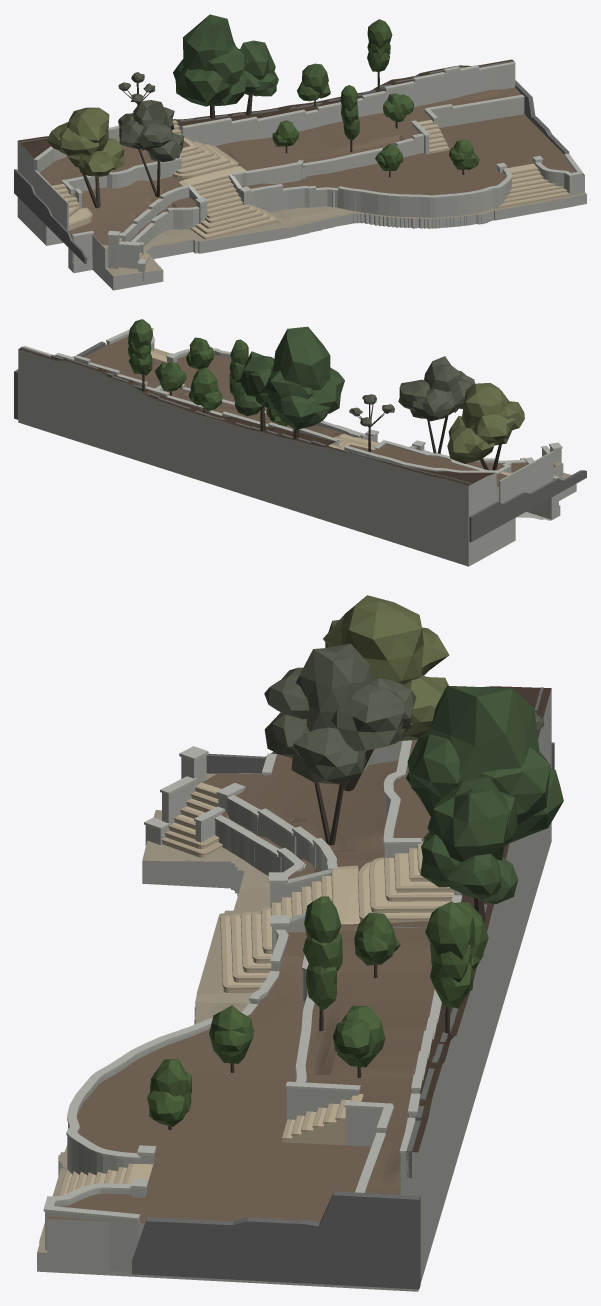
The model's file is reconstruction-ec6bc09f15f7.glb.
3 renders of one model, top to bottom at view 1: azimuth 30°, elevation 25°; view 2: azimuth 150°, elevation 25°; view 3: azimuth 270°, elevation 25°, orthographic. The views are drawn at different scales.
Parts seen in each view (by area): view 1: ground-terraces, wall-wa, wall-we, planting-tree-03, wall-wb, planting-tree-02, planting-tree-01, flight-m1, planting-tree-04, nosing-m1, coping-wa, coping-wb (+24 smaller); view 2: ground-terraces, planting-tree-03, planting-tree-02, planting-tree-01, slot-filler-west, planting-tree-04, cheek-w2-west, planting-tree-12, coping-we, planting-tree-11, gutter-rear, planting-tree-07 (+7 smaller); view 3: ground-terraces, slot-filler-east, planting-tree-01, planting-tree-03, planting-tree-04, planting-tree-02, coping-wa, wall-wa, planting-tree-12, flight-m2, planting-tree-07, flight-m1 (+20 smaller).
Boxes of the visible parts, x1=… form: ground-terraces: x1=17, y1=59, x2=586, y2=290; wall-wa: x1=72, y1=156, x2=582, y2=262; wall-we: x1=183, y1=64, x2=515, y2=145; planting-tree-03: x1=173, y1=14, x2=247, y2=118; wall-wb: x1=126, y1=97, x2=524, y2=241; planting-tree-02: x1=47, y1=107, x2=124, y2=208; planting-tree-01: x1=118, y1=100, x2=183, y2=197; flight-m1: x1=180, y1=170, x2=276, y2=239; planting-tree-04: x1=239, y1=40, x2=278, y2=115; nosing-m1: x1=190, y1=175, x2=277, y2=238; coping-wa: x1=72, y1=153, x2=583, y2=241; coping-wb: x1=123, y1=94, x2=524, y2=235; ground-terraces: x1=18, y1=336, x2=576, y2=566; planting-tree-03: x1=264, y1=326, x2=344, y2=439; planting-tree-02: x1=447, y1=383, x2=524, y2=470; planting-tree-01: x1=398, y1=356, x2=474, y2=453; slot-filler-west: x1=469, y1=470, x2=586, y2=542; planting-tree-04: x1=233, y1=351, x2=274, y2=431; cheek-w2-west: x1=499, y1=451, x2=553, y2=503; planting-tree-12: x1=128, y1=319, x2=152, y2=391; coping-we: x1=23, y1=346, x2=338, y2=441; planting-tree-11: x1=189, y1=367, x2=222, y2=413; gutter-rear: x1=20, y1=346, x2=471, y2=494; planting-tree-07: x1=229, y1=339, x2=248, y2=395; ground-terraces: x1=37, y1=686, x2=551, y2=1291; slot-filler-east: x1=132, y1=1191, x2=420, y2=1289; planting-tree-01: x1=264, y1=643, x2=416, y2=845; planting-tree-03: x1=406, y1=685, x2=563, y2=845; planting-tree-04: x1=420, y1=776, x2=518, y2=922; planting-tree-02: x1=323, y1=595, x2=449, y2=791; coping-wa: x1=43, y1=753, x2=305, y2=1220; wall-wa: x1=45, y1=774, x2=303, y2=1272; planting-tree-12: x1=425, y1=901, x2=474, y2=1037; flight-m2: x1=339, y1=841, x2=453, y2=924; planting-tree-07: x1=303, y1=896, x2=342, y2=1031; flight-m1: x1=223, y1=866, x2=353, y2=992.
Bounding box in the file's own units: 31.71 × 10.33 × 14.84.
